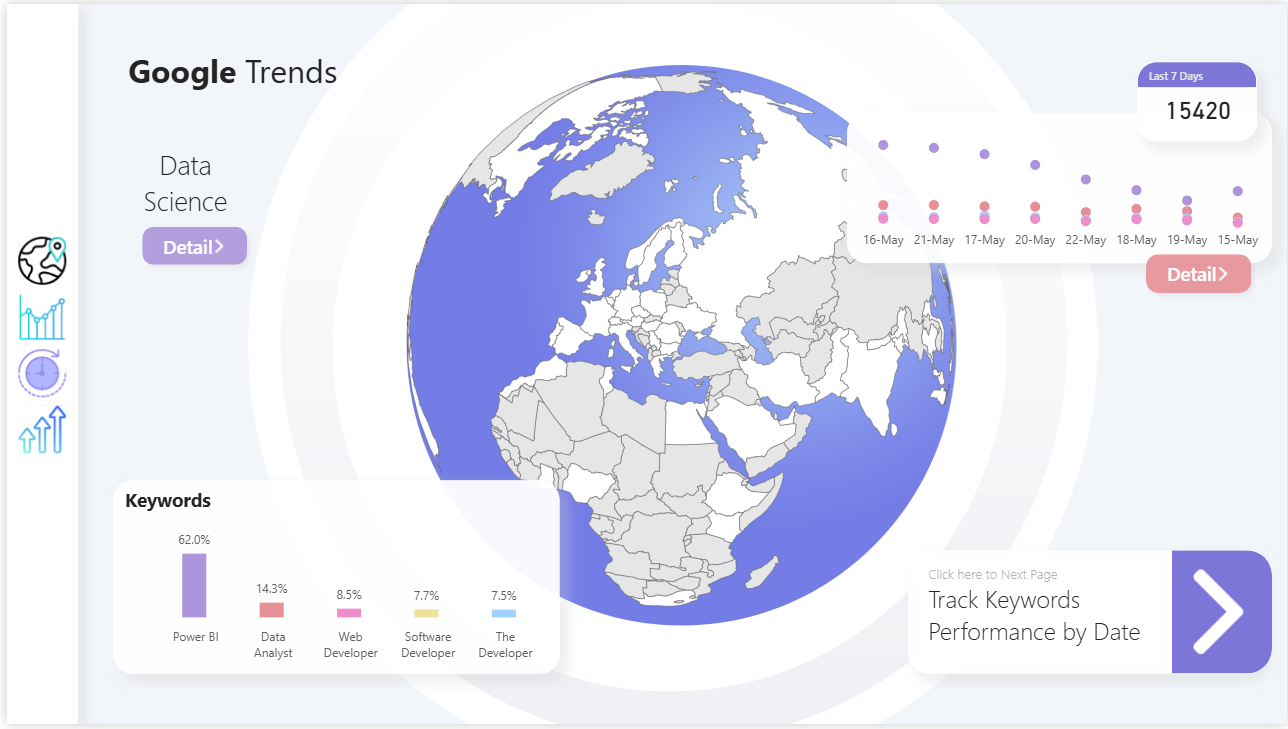

What the dashboard file says about the page in this screenshot:
{"tool":"powerbi","page":{"name":"Overview","canvas":[1280,720],"ordinal":0},"visuals":[{"type":"shapeMap","fields":{"Category":["Country_API.Country"]},"box":[365,0,616.7,670],"z":0},{"type":"shape","box":[0,0,71.3,720.4],"z":1000},{"type":"shape","box":[901.9,545.9,351.2,123.4],"z":2000},{"type":"actionButton","box":[1165,546.7,100,123.3],"z":3000},{"type":"clusteredColumnChart","title":"Keywords","fields":{"Y":["Country_Measures.Country_value"],"Category":["Country_API.Keywords"]},"box":[106.7,476.7,446.7,193.3],"z":4000},{"type":"lineChart","fields":{"Series":["Past_7_Days_Searches.Keywords"],"Category":["Past_7_Days_Searches.New_Date"],"Y":["Past_7_Days_Searches.Last_7Days_Value"]},"box":[840,108.3,425,150],"z":5000},{"type":"actionButton","box":[1130,241.7,123.3,56.7],"z":6000},{"type":"card","title":"Last 7 Days","fields":{"Values":["Past_7_Days_Searches.Last_7Days_Value"]},"box":[1129.9,57.6,119.8,80.4],"z":7000},{"type":"textbox","box":[916.7,556.7,233.3,105],"z":8000},{"type":"actionButton","box":[0,229,71.3,56.1],"z":9000},{"type":"textbox","box":[116.8,39.4,262.4,57.6],"z":10000},{"type":"card","fields":{"Values":["By_Date_API.Imp_Value"]},"box":[116.8,122.8,131.9,106.2],"z":11000},{"type":"actionButton","box":[125.9,213.8,122.8,56.1],"z":12000},{"type":"actionButton","box":[0,285.1,71.3,56.1],"z":13000},{"type":"actionButton","box":[0,341.2,71.3,56.1],"z":14000},{"type":"actionButton","box":[0,397.3,71.3,56.1],"z":15000}]}

Visuals, with their boxes in screenshot pixels (x1, y1, x2, y2), scaled from the page's 1280x720 canvas onto the 1288x729 screenshot:
shapeMap - Country_API.Country: bbox=[367, 0, 988, 678]
shape: bbox=[0, 0, 72, 728]
shape: bbox=[908, 553, 1261, 678]
actionButton: bbox=[1172, 554, 1273, 678]
"Keywords" clusteredColumnChart: bbox=[107, 483, 557, 678]
lineChart - Past_7_Days_Searches.Keywords x Past_7_Days_Searches.New_Date: bbox=[845, 110, 1273, 262]
actionButton: bbox=[1137, 245, 1261, 302]
"Last 7 Days" card: bbox=[1137, 58, 1258, 140]
textbox: bbox=[922, 564, 1157, 670]
actionButton: bbox=[0, 232, 72, 289]
textbox: bbox=[118, 40, 382, 98]
card - By_Date_API.Imp_Value: bbox=[118, 124, 250, 232]
actionButton: bbox=[127, 216, 250, 273]
actionButton: bbox=[0, 289, 72, 345]
actionButton: bbox=[0, 345, 72, 402]
actionButton: bbox=[0, 402, 72, 459]
